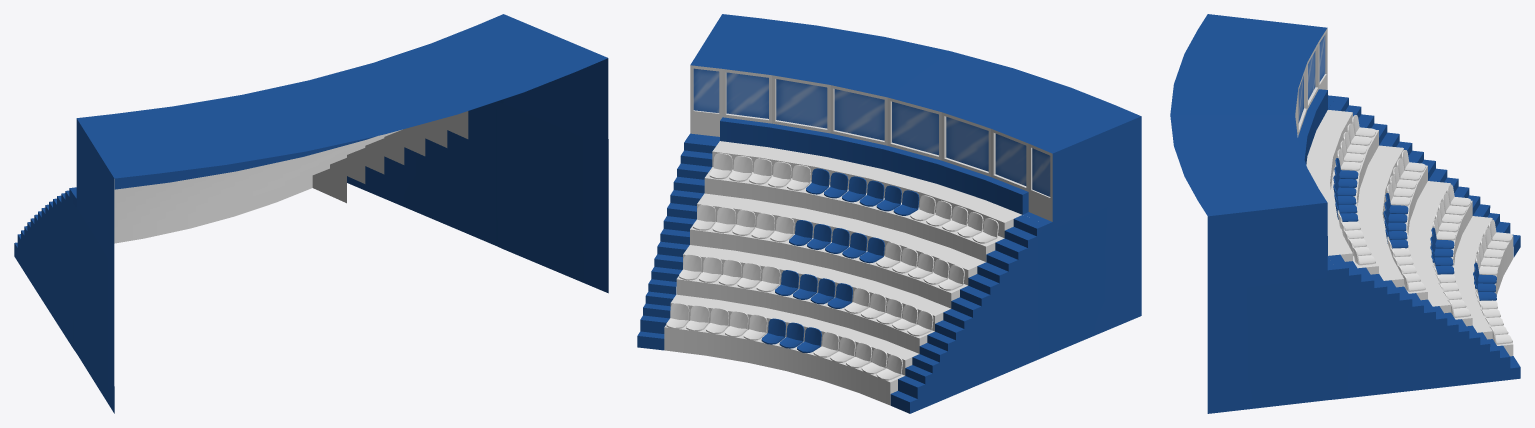
The model's file is SeatsCurvy.fbx.
The picture shows the model from 3 angles, left to right: view 1: azimuth 30°, elevation 25°; view 2: azimuth 150°, elevation 25°; view 3: azimuth 270°, elevation 25°; orthographic projection. The views are drawn at different scales.
Visible parts, largest first — view 1: SeatsCurvy; view 2: SeatsCurvy; view 3: SeatsCurvy.
Boxes of the visible parts, bbox=[...] form: SeatsCurvy: bbox=[14, 14, 608, 413]; SeatsCurvy: bbox=[637, 14, 1141, 413]; SeatsCurvy: bbox=[1170, 14, 1520, 413].
Bounding box in the file's own units: 1135 × 517 × 830.
